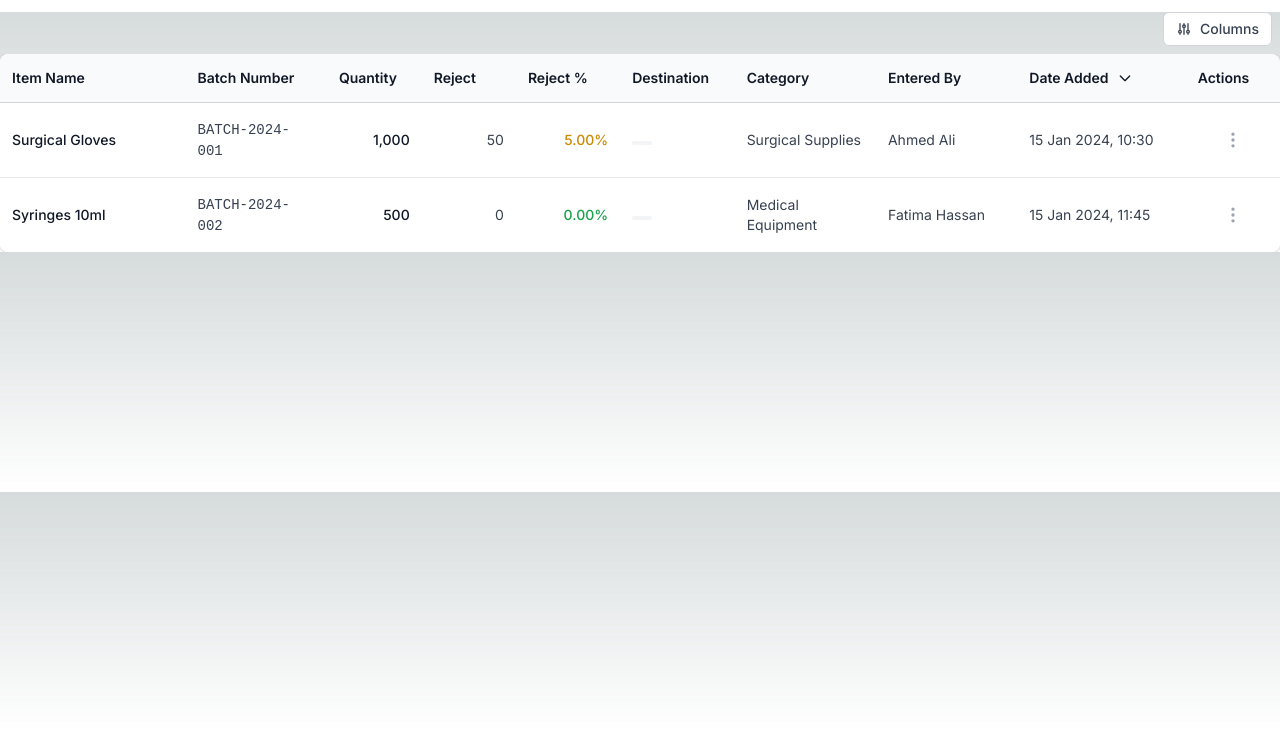
Test: InventoryTable › shows column menu when column settings button is clicked
The width and height of the screenshot is (1280, 732).
// Open column menu
Click the button with aria-label "Column settings".
click(1217, 29)  # box 1163,12 -> 1272,46
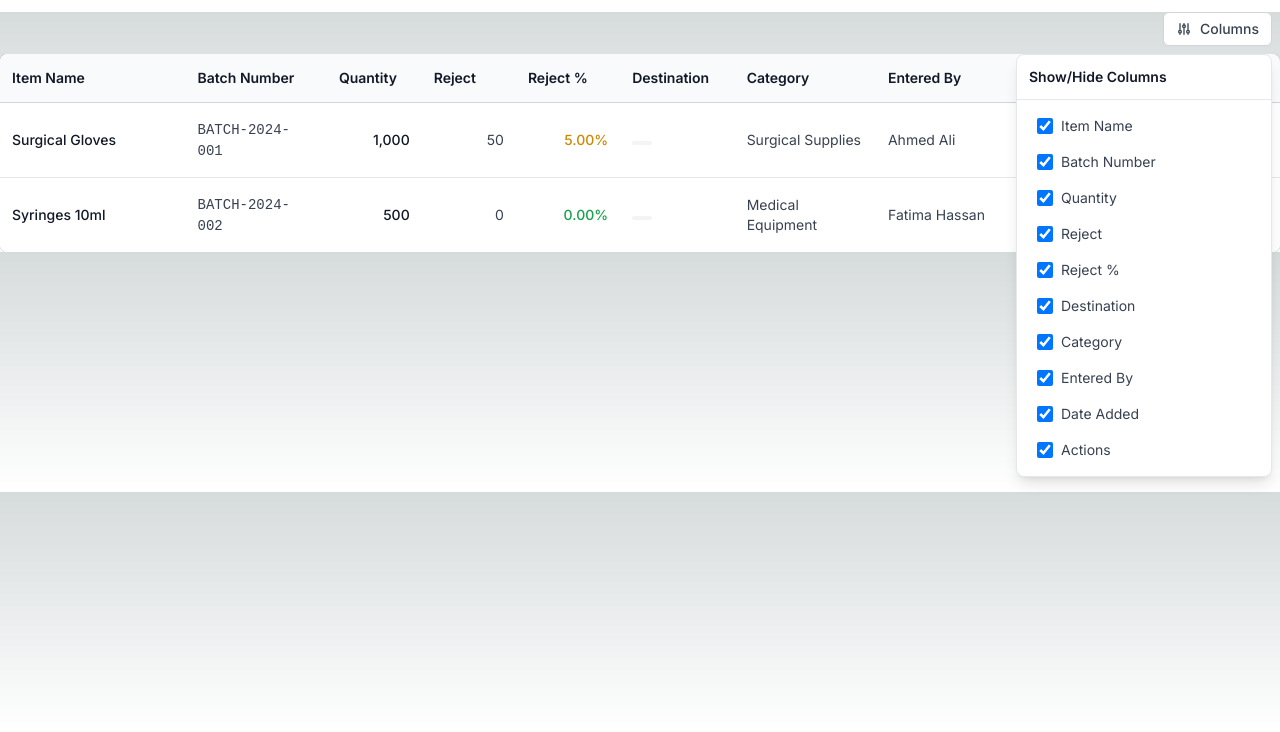
Result: the heading "Show/Hide Columns" is shown at 1029,68 -> 1167,85
